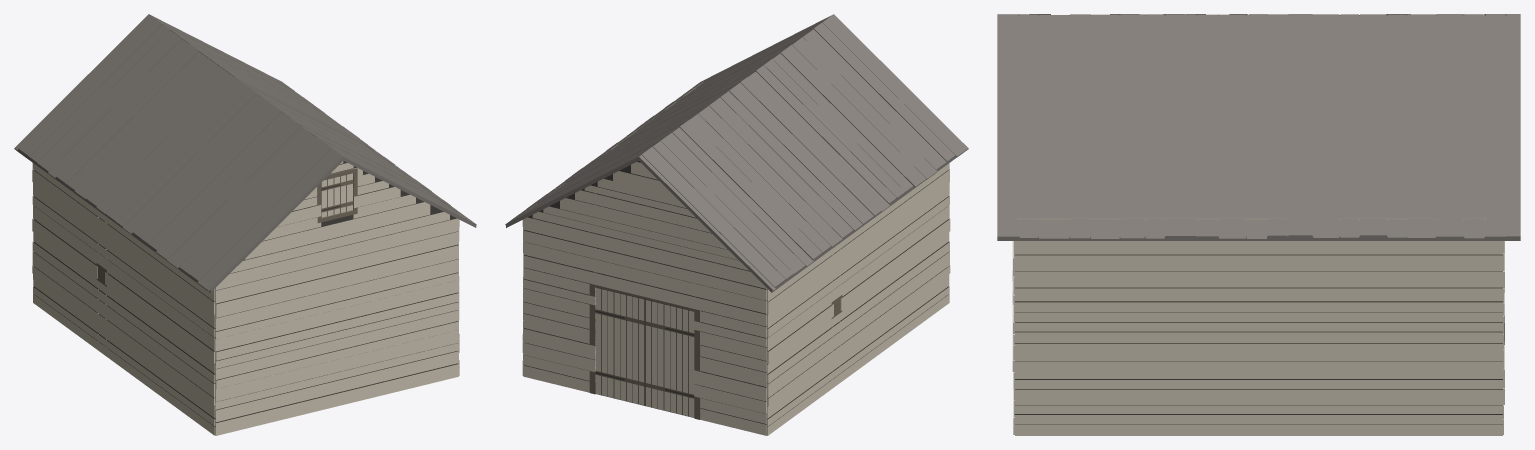
Rendered from recon_1835_blk_randolph_clinton_a2_05__inferred_1835.glb.
3 views of the same model, side by side, from view 1: azimuth 30°, elevation 25°; view 2: azimuth 150°, elevation 25°; view 3: azimuth 270°, elevation 25° (orthographic). The views are drawn at different scales.
Visible parts, largest first — view 1: recon_1835_blk_randolph_clinton_a2_05__inferred_1835; view 2: recon_1835_blk_randolph_clinton_a2_05__inferred_1835; view 3: recon_1835_blk_randolph_clinton_a2_05__inferred_1835.
Boxes of the visible parts, box(x1,y1,x2,y2) form: recon_1835_blk_randolph_clinton_a2_05__inferred_1835: box(14, 14, 476, 435); recon_1835_blk_randolph_clinton_a2_05__inferred_1835: box(505, 14, 968, 435); recon_1835_blk_randolph_clinton_a2_05__inferred_1835: box(997, 14, 1520, 435).
Bounding box in the file's own units: 7.88 × 7.11 × 9.87.
